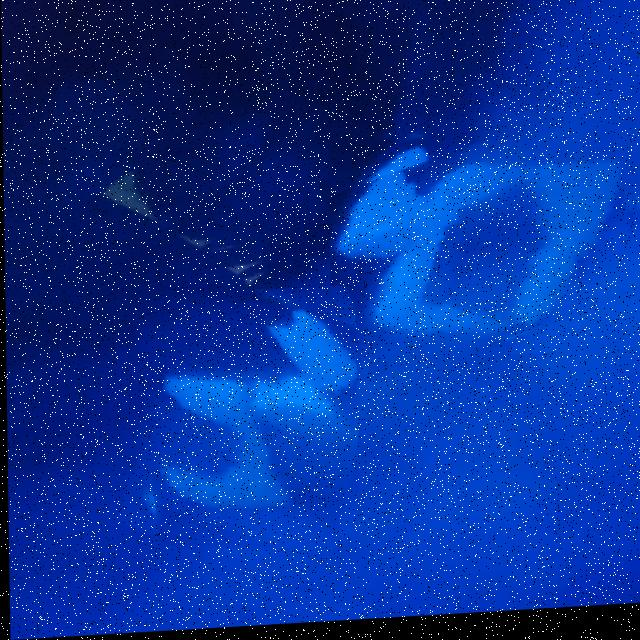thermocoal: (327, 115, 640, 369), (128, 289, 357, 572), (128, 351, 349, 566), (223, 305, 347, 386)
